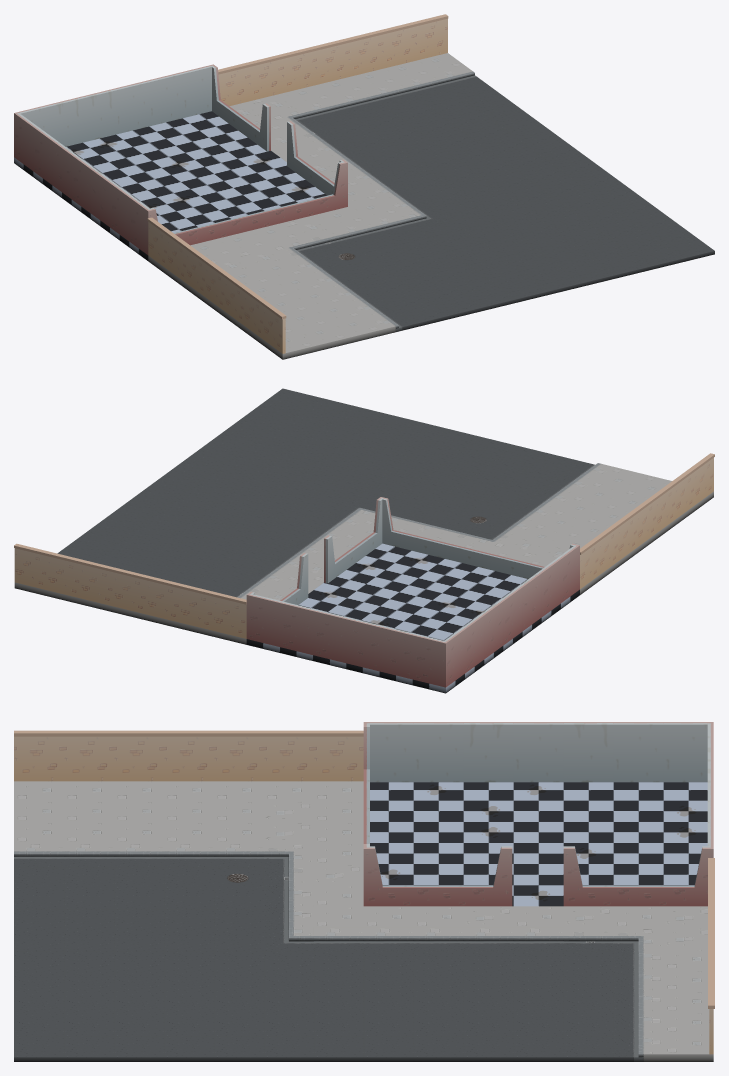
File: DoubleCooked_Room03.fbx
The picture shows the model from 3 angles, top to bottom: view 1: azimuth 30°, elevation 25°; view 2: azimuth 150°, elevation 25°; view 3: azimuth 270°, elevation 25°; orthographic projection. The views are drawn at different scales.
Visible parts, largest first — view 1: DoubleCooked_Room03; view 2: DoubleCooked_Room03; view 3: DoubleCooked_Room03.
Part boxes in pixels (x1,y1,x2,y2): DoubleCooked_Room03: (14,14,714,359); DoubleCooked_Room03: (14,388,714,693); DoubleCooked_Room03: (14,722,714,1061).
Bounding box in the file's own units: 1303 × 144 × 1403.
